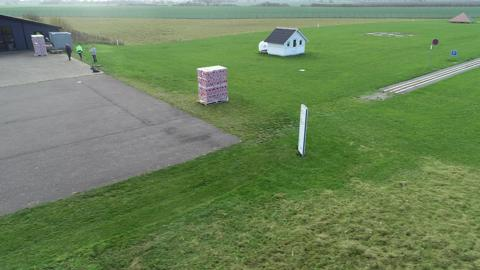RockwoolPallet: (30, 34, 48, 57)
